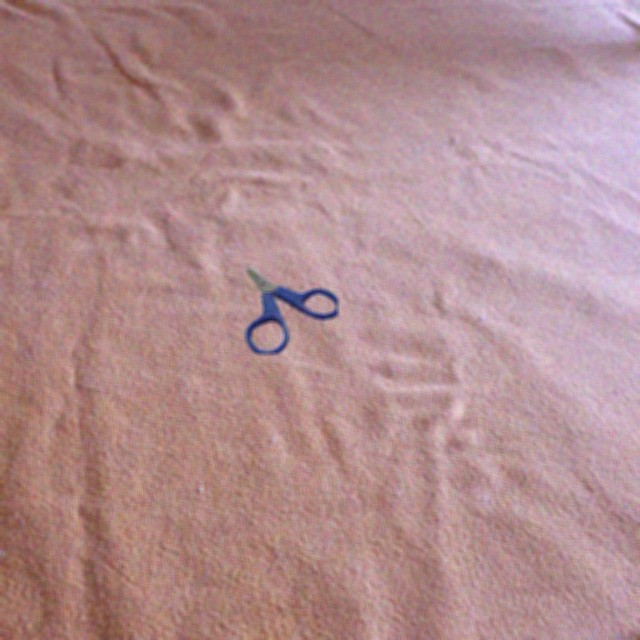scissors: (245, 267, 338, 354)
